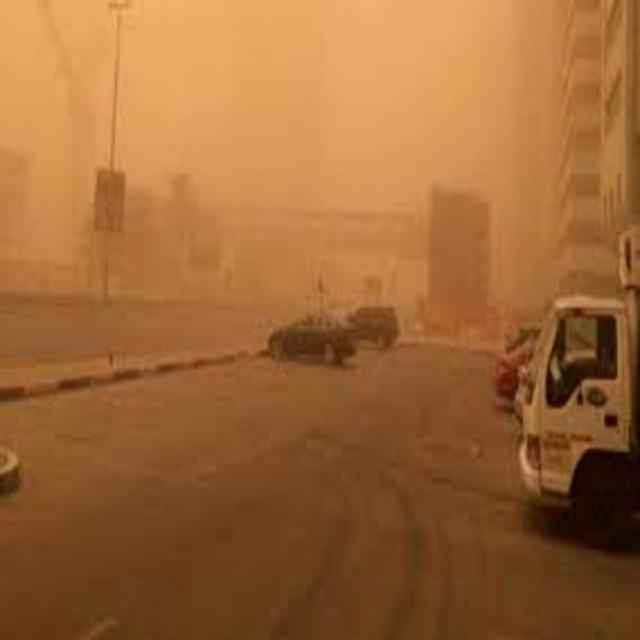Car: (270, 318, 354, 382), (329, 297, 403, 352)
Truck: (514, 229, 640, 547)
